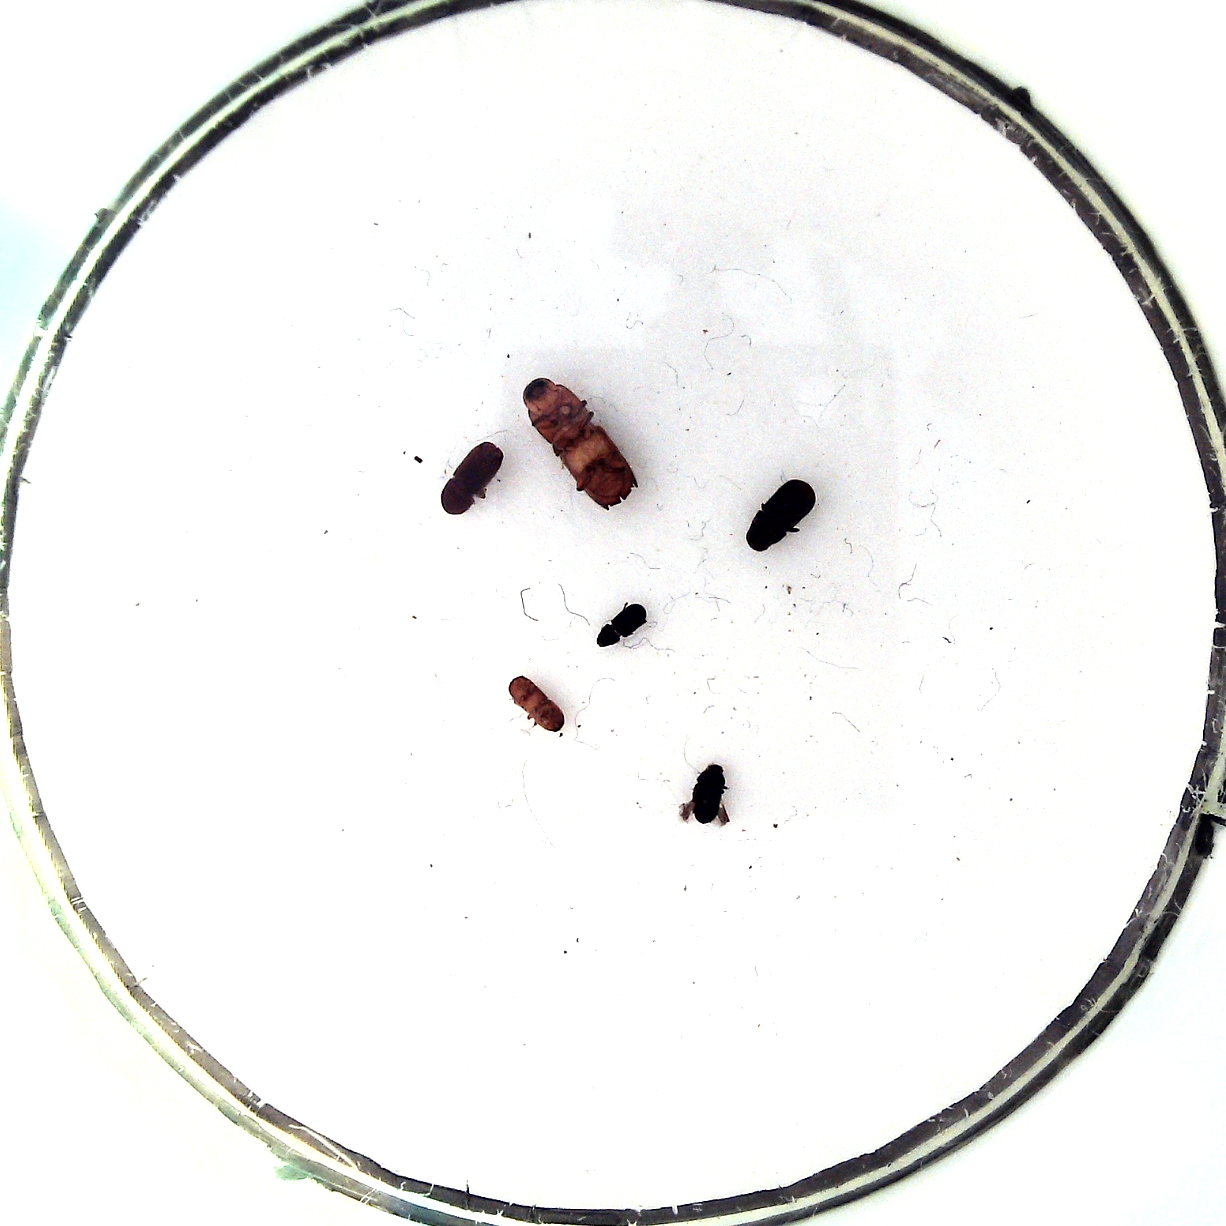Boerner: (523, 377, 639, 510)
acuminatus: (597, 604, 647, 648), (692, 762, 725, 823)
armandi: (745, 479, 815, 552)
coleoptera: (510, 674, 565, 733)
linnaeus: (440, 442, 504, 514)
